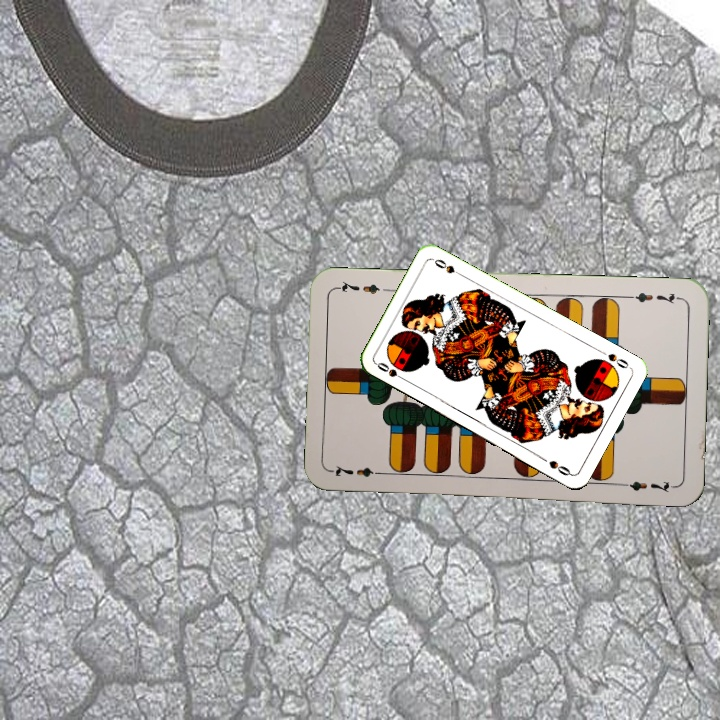E7: (624, 289, 683, 307), (329, 461, 388, 479)
SO: (373, 358, 410, 385), (595, 346, 633, 371)
